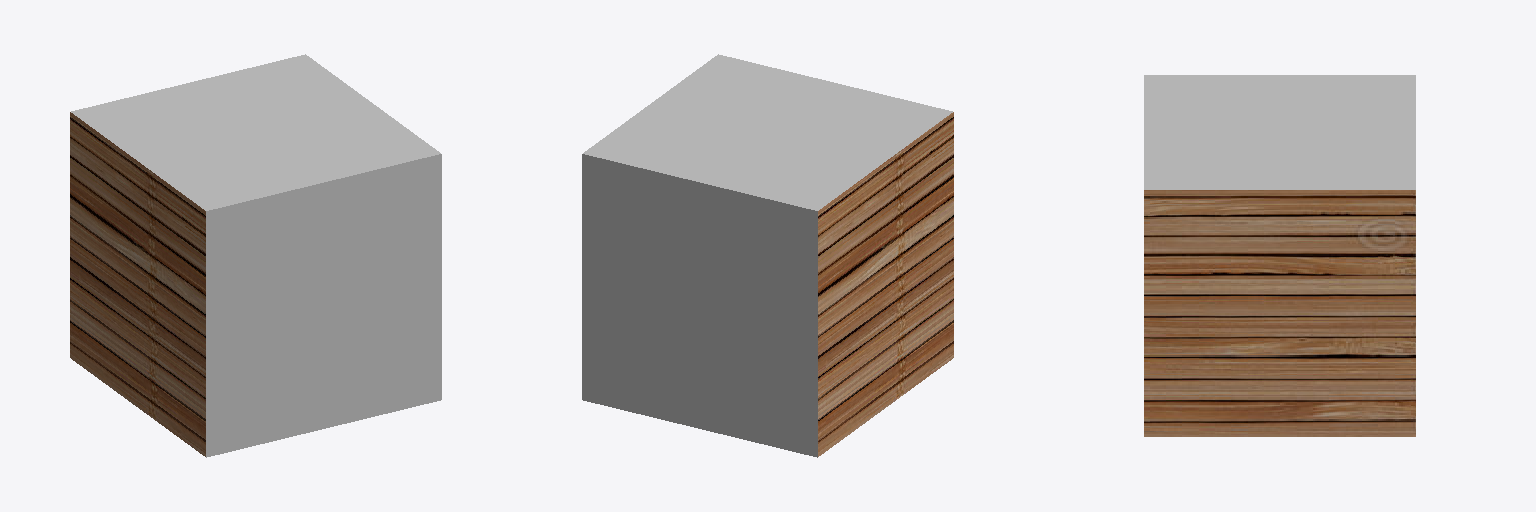
3 views of the same model, side by side, from view 1: azimuth 30°, elevation 25°; view 2: azimuth 150°, elevation 25°; view 3: azimuth 270°, elevation 25° (orthographic).
Parts seen in each view (by area): view 1: Cube; view 2: Cube; view 3: Cube.
Part boxes in pixels (x1,y1,x2,y2): Cube: (70,54,441,457); Cube: (582,54,953,457); Cube: (1144,75,1415,436).
Size of the model in its own units: 2 by 2 by 2.
Materials: 2 (1 with a texture image).